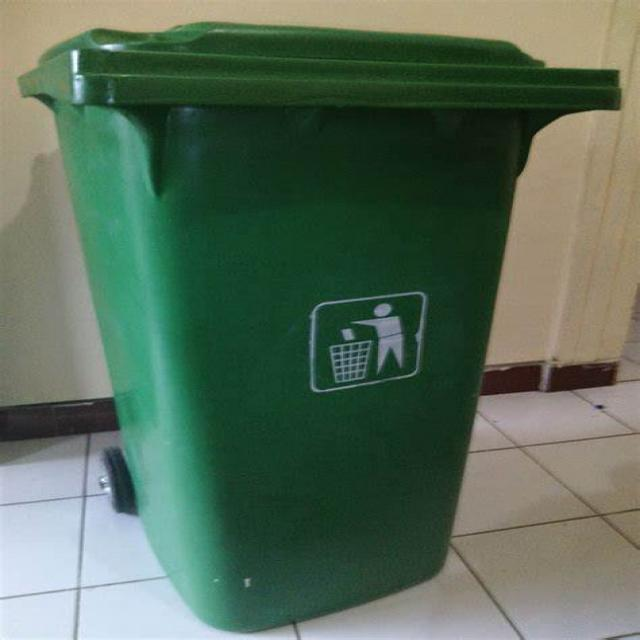Dustbin: (25, 11, 640, 626)
